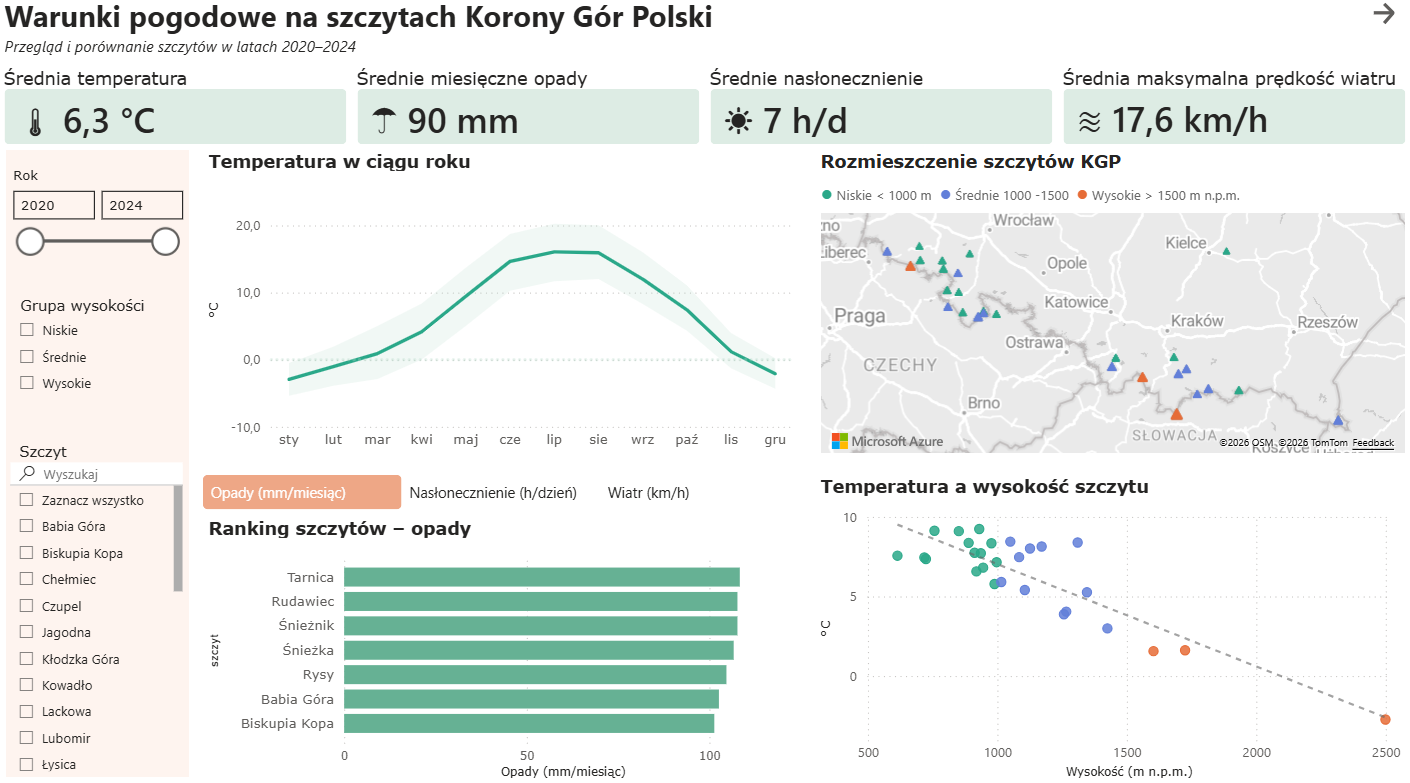

Layout of this report page (visuals, bound fields, positions):
{"tool":"powerbi","page":{"name":"Przegląd","canvas":[1280,720],"ordinal":0},"visuals":[{"type":"shape","box":[6.3,145.1,165.9,568.6],"z":0},{"type":"slicer","fields":{"Values":["Calendar.Year"]},"box":[0,155.1,172.3,117.9],"z":1000},{"type":"slicer","fields":{"Values":["kgp_all_monthly_clean (2).height_group"]},"box":[6.3,272.9,165.9,121.5],"z":2000},{"type":"slicer","fields":{"Values":["kgp_all_monthly_clean (2).Szczyt"]},"box":[5.4,405.3,165.9,308.3],"z":3000},{"type":"azureMap","title":"Rozmieszczenie szczytów KGP","fields":{"Y":["koordynaty.lat"],"X":["koordynaty.lon"],"Size":["Avg(kgp_all_monthly_clean.height_m)"],"Series":["kgp_all_monthly_clean.height_group"]},"box":[739.9,145.1,540,280],"z":4000},{"type":"lineChart","title":"Temperatura w ciągu roku","fields":{"Y":["Avg(kgp_all_monthly_clean.temperature_2m_mean)"],"Category":["Calendar.MonthName"]},"box":[185,145.1,540,280],"z":5000},{"type":"clusteredBarChart","fields":{"Y":["Parametr - rok, miesiąc.Opady (mm)"],"Category":["kgp_all_monthly_clean.Szczyt"]},"box":[185,477.9,540.5,242.1],"z":6000},{"type":"advancedSlicerVisual","fields":{"Values":["Parametr - wykres przełączany.Parametr - wykres przełączany"]},"box":[185,439.8,540.5,31.7],"z":7000},{"type":"cardVisual","title":"Średnia temperatura ","fields":{"Data":["kgp_all_monthly_clean.Średnia temperatura - etykieta"]},"box":[0,70,320,75],"z":8000},{"type":"cardVisual","title":"Średnie miesięczne opady","fields":{"Data":["kgp_all_monthly_clean.Średnie opady deszczu - etykieta"]},"box":[320,70,320,75],"z":9000},{"type":"cardVisual","title":"Średnie nasłonecznienie","fields":{"Data":["kgp_all_monthly_clean.Średnie nasłonecznienie - etykieta"]},"box":[640,70,320,75],"z":10000},{"type":"cardVisual","title":"Średnia maksymalna prędkość wiatru","fields":{"Data":["kgp_all_monthly_clean.Średnia prędkość wiatru - etykieta"]},"box":[960,70,320,75],"z":11000},{"type":"textbox","box":[0,0,701,70],"z":12000},{"type":"scatterChart","title":"Temperatura a wysokość szczytu","fields":{"X":["kgp_all_monthly_clean.height_m"],"Y":["Avg(kgp_all_monthly_clean.temperature_2m_mean)"],"Series":["kgp_all_monthly_clean.height_group"]},"box":[739.9,439.8,540,280],"z":13000},{"type":"textbox","box":[739.9,165,533.2,35.4],"z":14000},{"type":"actionButton","box":[1241.4,7.3,39,28.1],"z":15000}]}

Visuals, with their boxes in screenshot pixels (x1, y1, x2, y2), scaled from the page's 1280x720 canvas onto the 1410x783 screenshot:
shape: 7:158:190:776
slicer - Calendar.Year: 0:169:190:297
slicer - kgp_all_monthly_clean (2).height_group: 7:297:190:429
slicer - kgp_all_monthly_clean (2).Szczyt: 6:441:189:776
"Rozmieszczenie szczytów KGP" azureMap: 815:158:1409:462
"Temperatura w ciągu roku" lineChart: 204:158:799:462
clusteredBarChart - Parametr - rok, miesiąc.Opady (mm) x kgp_all_monthly_clean.Szczyt: 204:520:799:782
advancedSlicerVisual - Parametr - wykres przełączany.Parametr - wykres przełączany: 204:478:799:513
"Średnia temperatura " cardVisual: 0:76:352:158
"Średnie miesięczne opady" cardVisual: 352:76:705:158
"Średnie nasłonecznienie" cardVisual: 705:76:1058:158
"Średnia maksymalna prędkość wiatru" cardVisual: 1058:76:1409:158
textbox: 0:0:772:76
"Temperatura a wysokość szczytu" scatterChart: 815:478:1409:782
textbox: 815:179:1402:218
actionButton: 1367:8:1409:38
